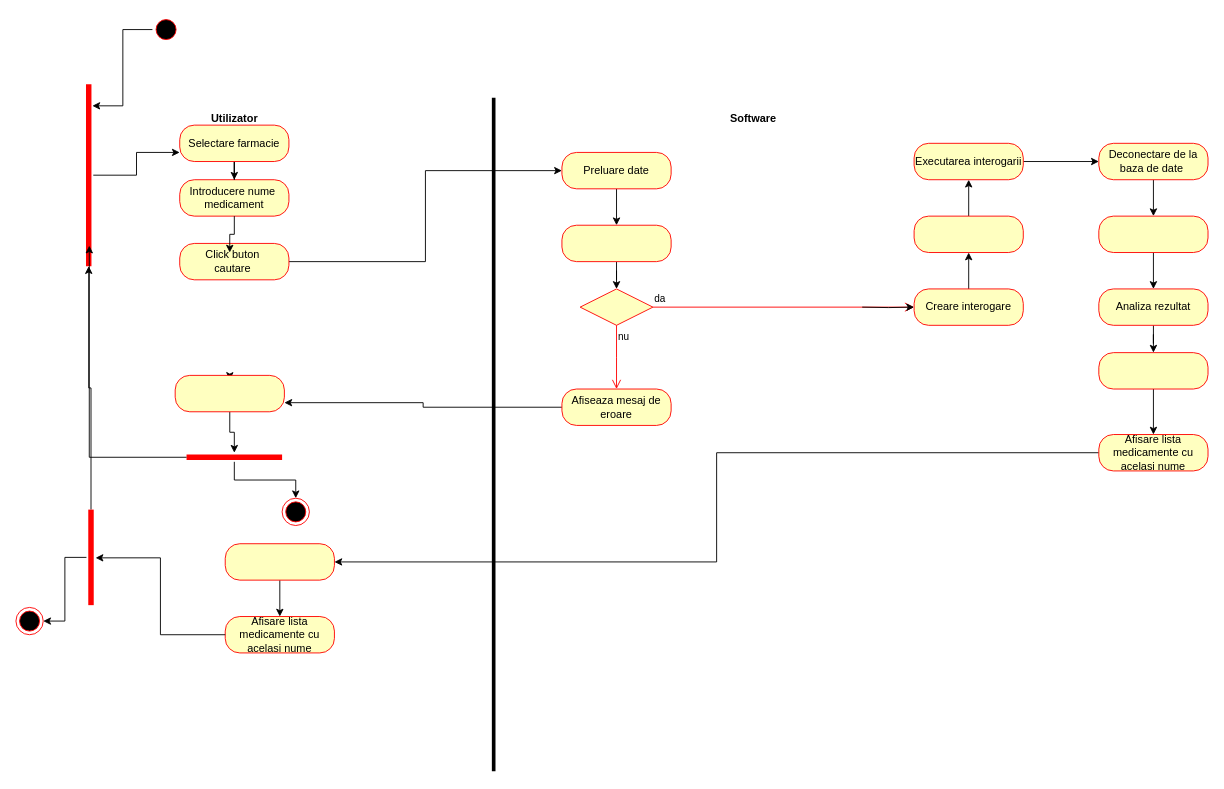
The diagram is 1224 pixels wide and 789 high, and some of its shapes have lost their labels. Here are the shapes that lost their labels. From the top down, the centre of each, then its label:
At (616,243): "Validare date".
At (968,234): "Conecatre la baza de date".
At (1153,234): "Preluare rezultate interogare".
At (1153,370): "Afisare mesaj succes".
At (229,393): "Vizualizare mesaj de eroare".
At (279,561): "Afisare mesaj de succes".
